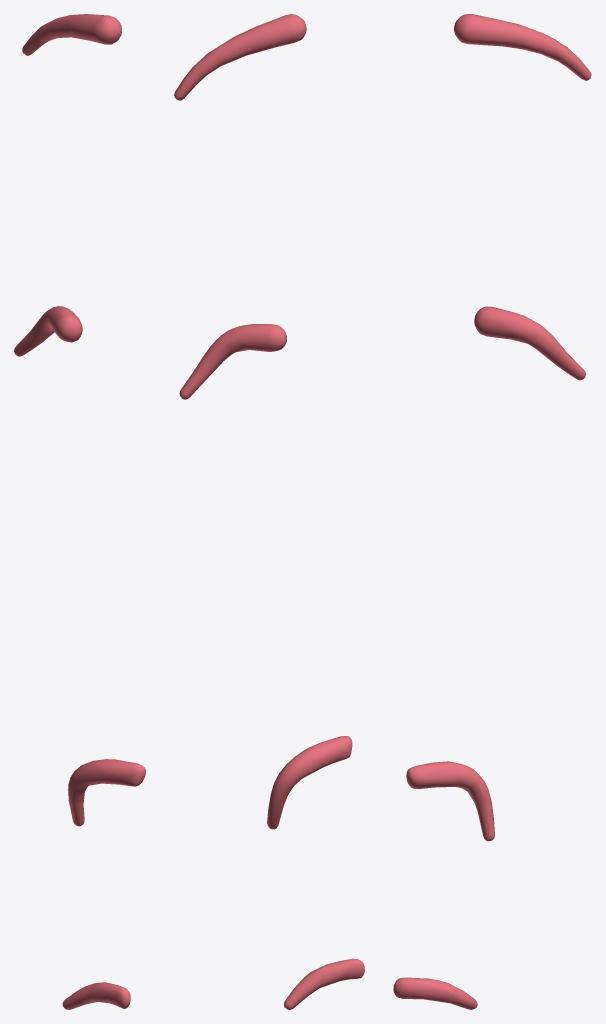
Rendered from fma44885_fj2190.glb.
The picture shows the model from 3 angles, left to right: view 1: azimuth 90°, elevation 25°; view 2: azimuth 150°, elevation 25°; view 3: azimuth 330°, elevation 25°; orthographic projection. The views are drawn at different scales.
Visible parts, largest first — view 1: FMA44885_FJ2190; view 2: FMA44885_FJ2190; view 3: FMA44885_FJ2190.
Part boxes in pixels (box(x1,y1,x2,y2)): FMA44885_FJ2190: box(14, 14, 145, 1009); FMA44885_FJ2190: box(174, 14, 364, 1009); FMA44885_FJ2190: box(393, 14, 591, 1009).
Size of the model in its own units: 0.027 by 0.1778 by 0.0216.
